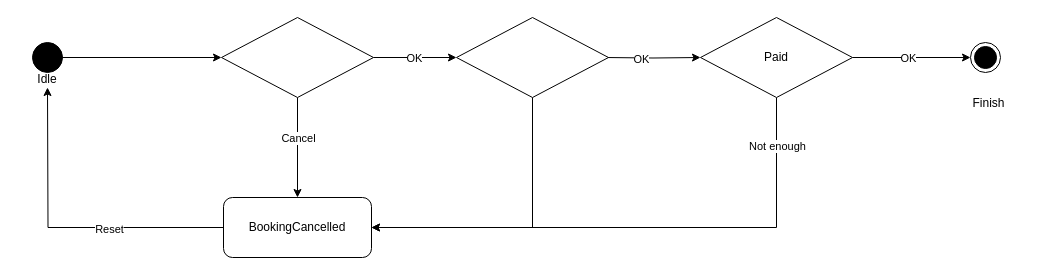
The diagram is 1057 pixels wide and 275 high, and some of its shapes have lost their labels. The shapes that lost their labels are listed below. From the top down, each one's box as (x1, y1, x2, y2) in pixels, then its label:
(220, 16, 374, 98): RoomSelected
(456, 16, 608, 98): BookingConfirmned
